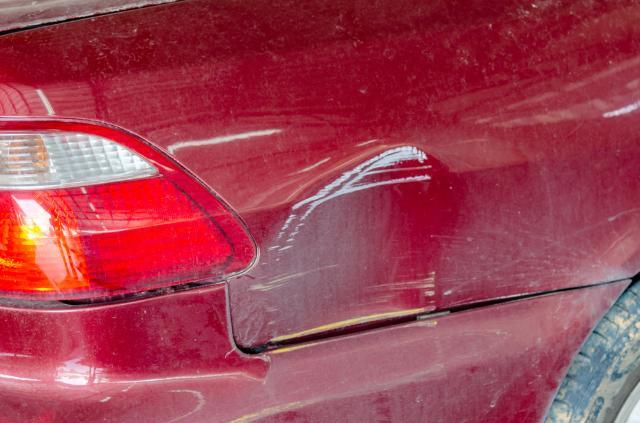dent: (261, 149, 450, 340)
